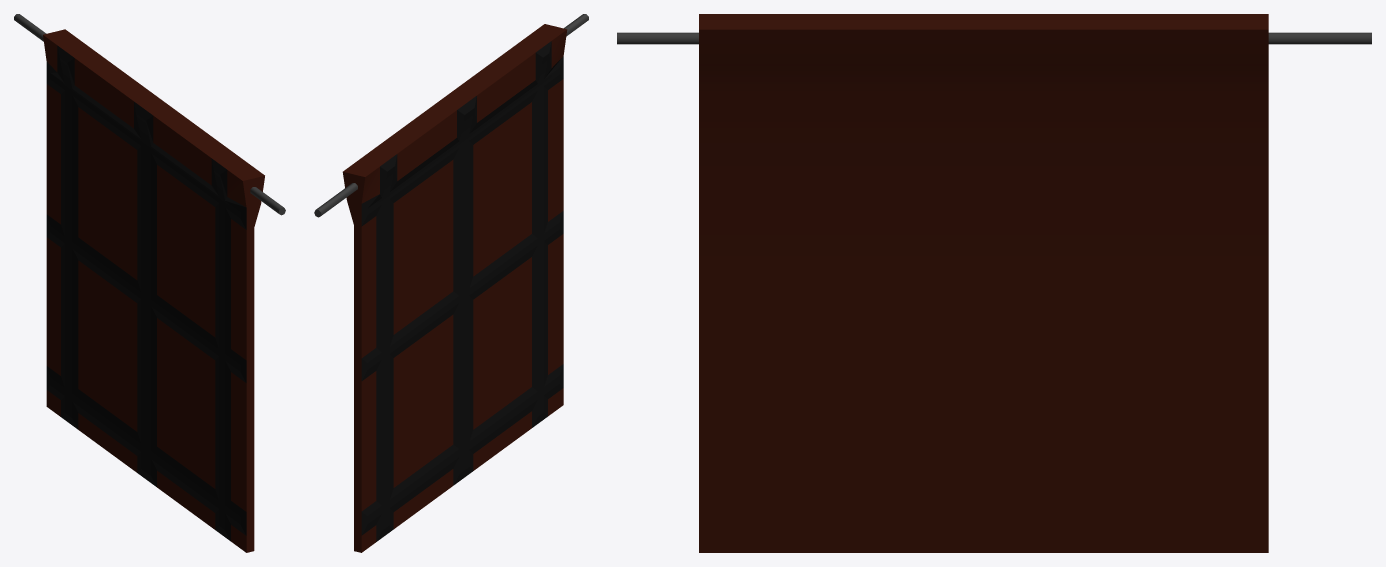
The model's file is Porta # 1.FBX.
3 renders of one model, left to right at view 1: azimuth 30°, elevation 25°; view 2: azimuth 150°, elevation 25°; view 3: azimuth 270°, elevation 25°, orthographic. The views are drawn at different scales.
Visible parts, largest first — view 1: Box001; view 2: Box001; view 3: Box001.
Part boxes in pixels (bbox=[...]): Box001: bbox=[14, 14, 285, 552]; Box001: bbox=[314, 14, 588, 552]; Box001: bbox=[617, 14, 1371, 552].
Bounding box in the file's own units: 75.43 × 1079 × 1390.
